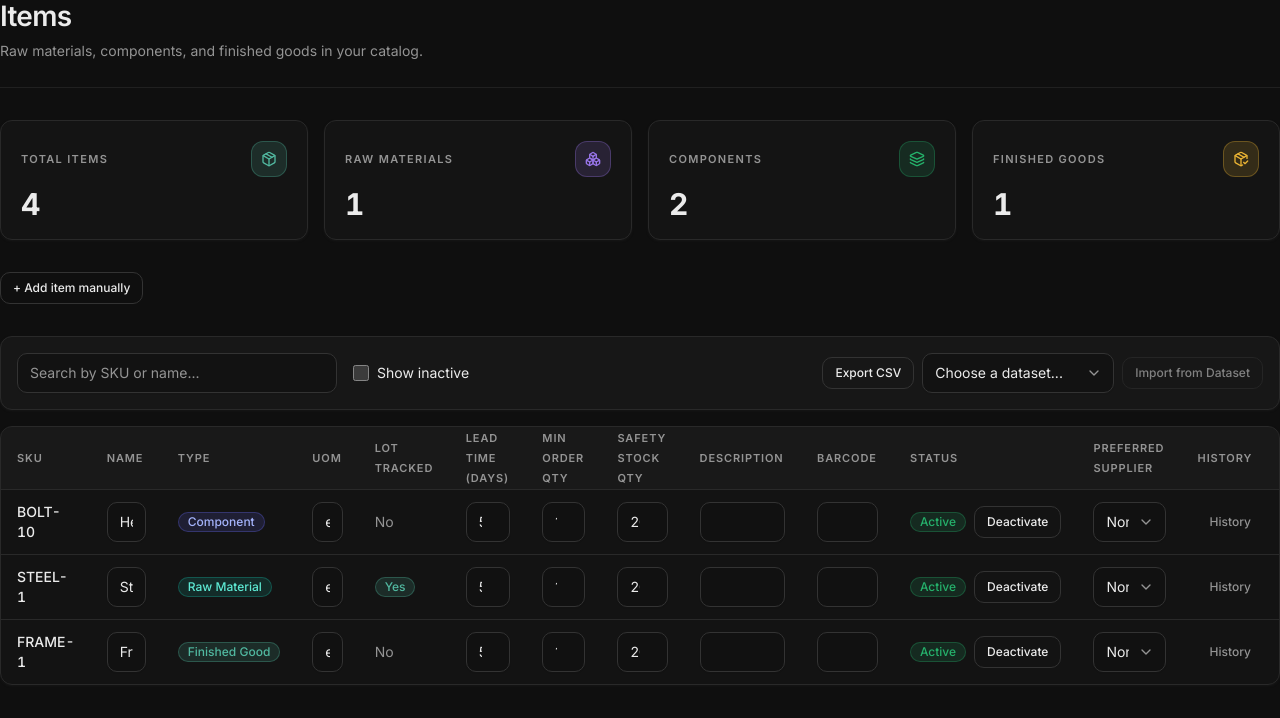
Test: Items › shows per-type stats and hides inactive items until toggled
The width and height of the screenshot is (1280, 718).
Expected: the text "BOLT-10" is shown, 1,489 -> 91,554
Expected: the text "OLD-1" is not shown
Click the checkbox labelled "Show inactive".
click(361, 373)  # box 353,365 -> 369,381
(page scrolled)
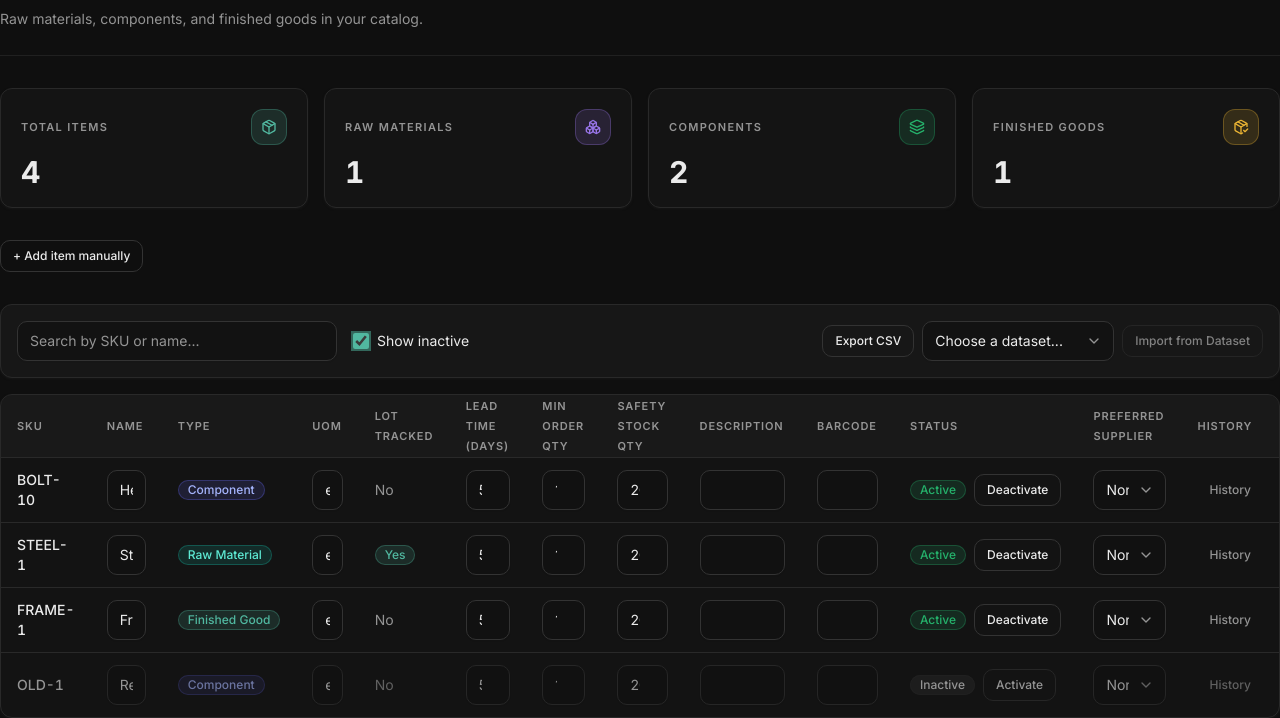
Expected: the text "Inactive" is shown, 910,675 -> 975,695
Expected: the button "Activate" is shown, 983,669 -> 1056,701
